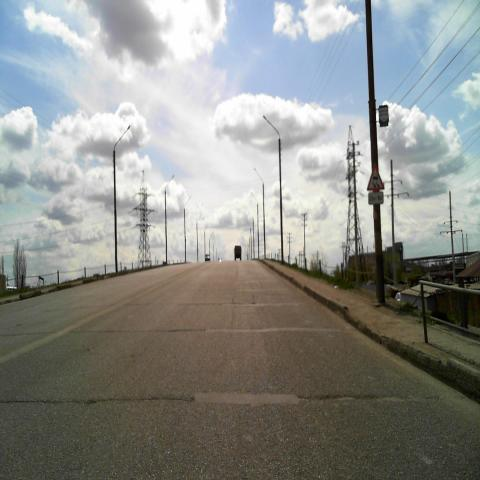1_15: (368, 165, 384, 191)
